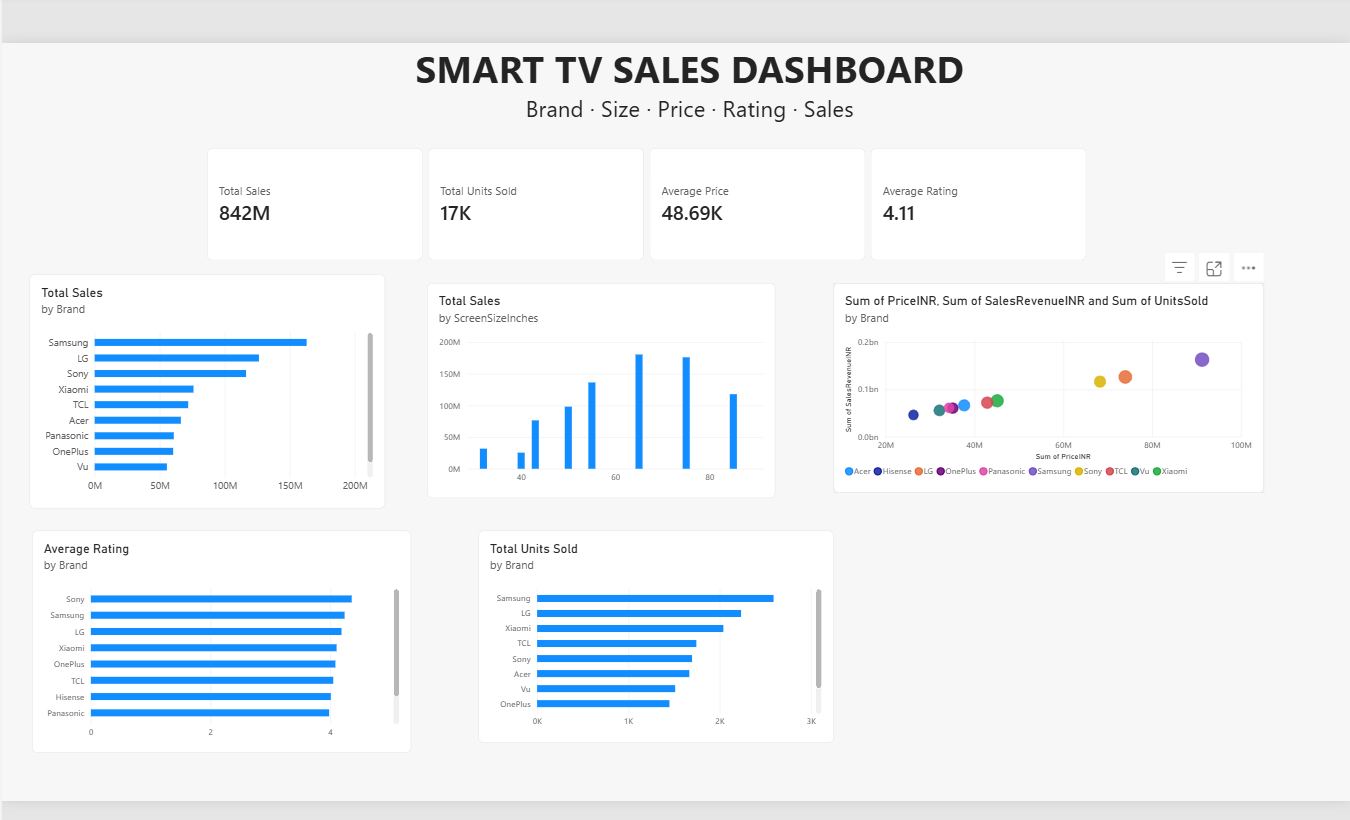

The page's visual inventory and layout, read from the dashboard file:
{"tool":"powerbi","page":{"name":"Page 1","canvas":[1920,1080],"ordinal":0},"visuals":[{"type":"cardVisual","fields":{"Data":["SmartTVSales.Total Sales","SmartTVSales.Total Units Sold","SmartTVSales.Average Price","SmartTVSales.Average Rating"]},"box":[292.3,150.3,1253.5,160.5],"z":0},{"type":"textbox","box":[582.5,0,794.5,150.3],"z":1},{"type":"barChart","fields":{"Category":["SmartTVSales.Brand"],"Y":["SmartTVSales.Total Sales"]},"box":[39.1,329.3,506.3,333.4],"z":2},{"type":"columnChart","fields":{"Category":["SmartTVSales.ScreenSizeInches"],"Y":["SmartTVSales.Total Sales"]},"box":[605.1,341.7,496.1,306.7],"z":3},{"type":"scatterChart","fields":{"Series":["SmartTVSales.Brand"],"Size":["Sum(SmartTVSales.UnitsSold)"],"X":["Sum(SmartTVSales.PriceINR)"],"Y":["Sum(SmartTVSales.SalesRevenueINR)"]},"box":[1183.8,341.2,613.8,298.8],"z":4},{"type":"clusteredBarChart","fields":{"Category":["SmartTVSales.Brand"],"Y":["SmartTVSales.Average Rating"]},"box":[43.3,693.3,540,316.7],"z":5},{"type":"clusteredBarChart","fields":{"Category":["SmartTVSales.Brand"],"Y":["SmartTVSales.Total Units Sold"]},"box":[678,694,506,302],"z":6}]}

Visuals, with their boxes on the page's 1920x1080 design canvas (x1, y1, x2, y2). These are canvas units, not pixel positions in the 1350x820 screenshot, which may show the page scaled, cropped or inside an application window:
cardVisual - SmartTVSales.Total Sales x SmartTVSales.Total Units Sold: 292:150:1546:311
textbox: 582:0:1377:150
barChart - SmartTVSales.Brand x SmartTVSales.Total Sales: 39:329:545:663
columnChart - SmartTVSales.ScreenSizeInches x SmartTVSales.Total Sales: 605:342:1101:648
scatterChart - SmartTVSales.Brand x Sum(SmartTVSales.UnitsSold): 1184:341:1798:640
clusteredBarChart - SmartTVSales.Brand x SmartTVSales.Average Rating: 43:693:583:1010
clusteredBarChart - SmartTVSales.Brand x SmartTVSales.Total Units Sold: 678:694:1184:996
